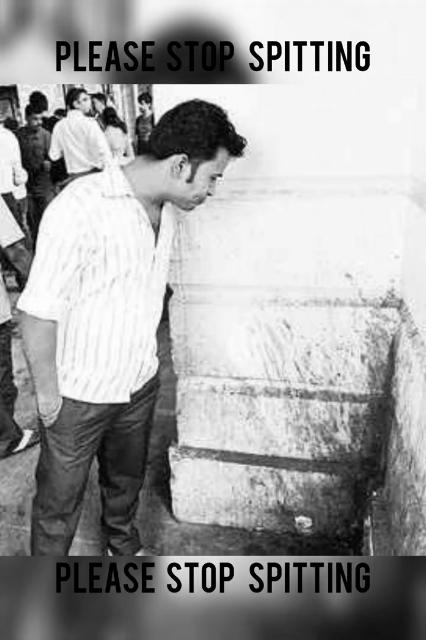spit: (170, 145, 426, 556)
